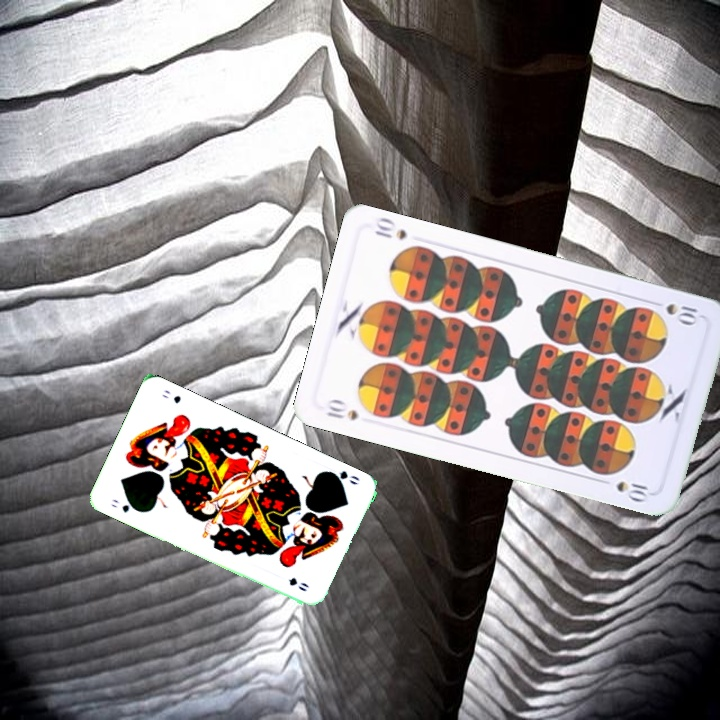GO: (325, 466, 362, 487), (107, 495, 142, 515)
S10: (646, 296, 700, 328), (322, 395, 360, 423)
